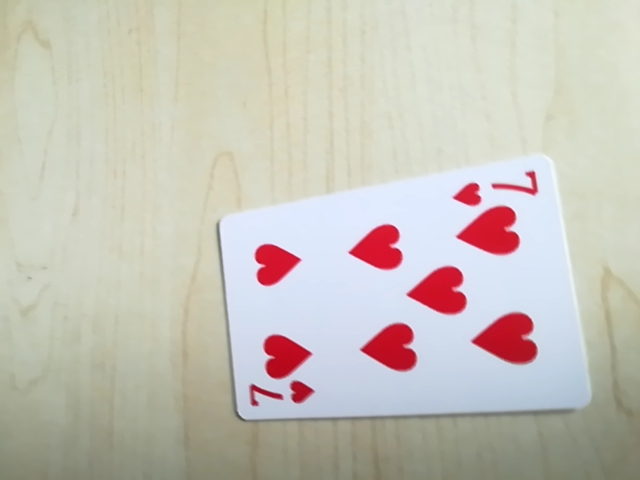hx 7: (449, 164, 548, 206), (244, 377, 317, 415)
